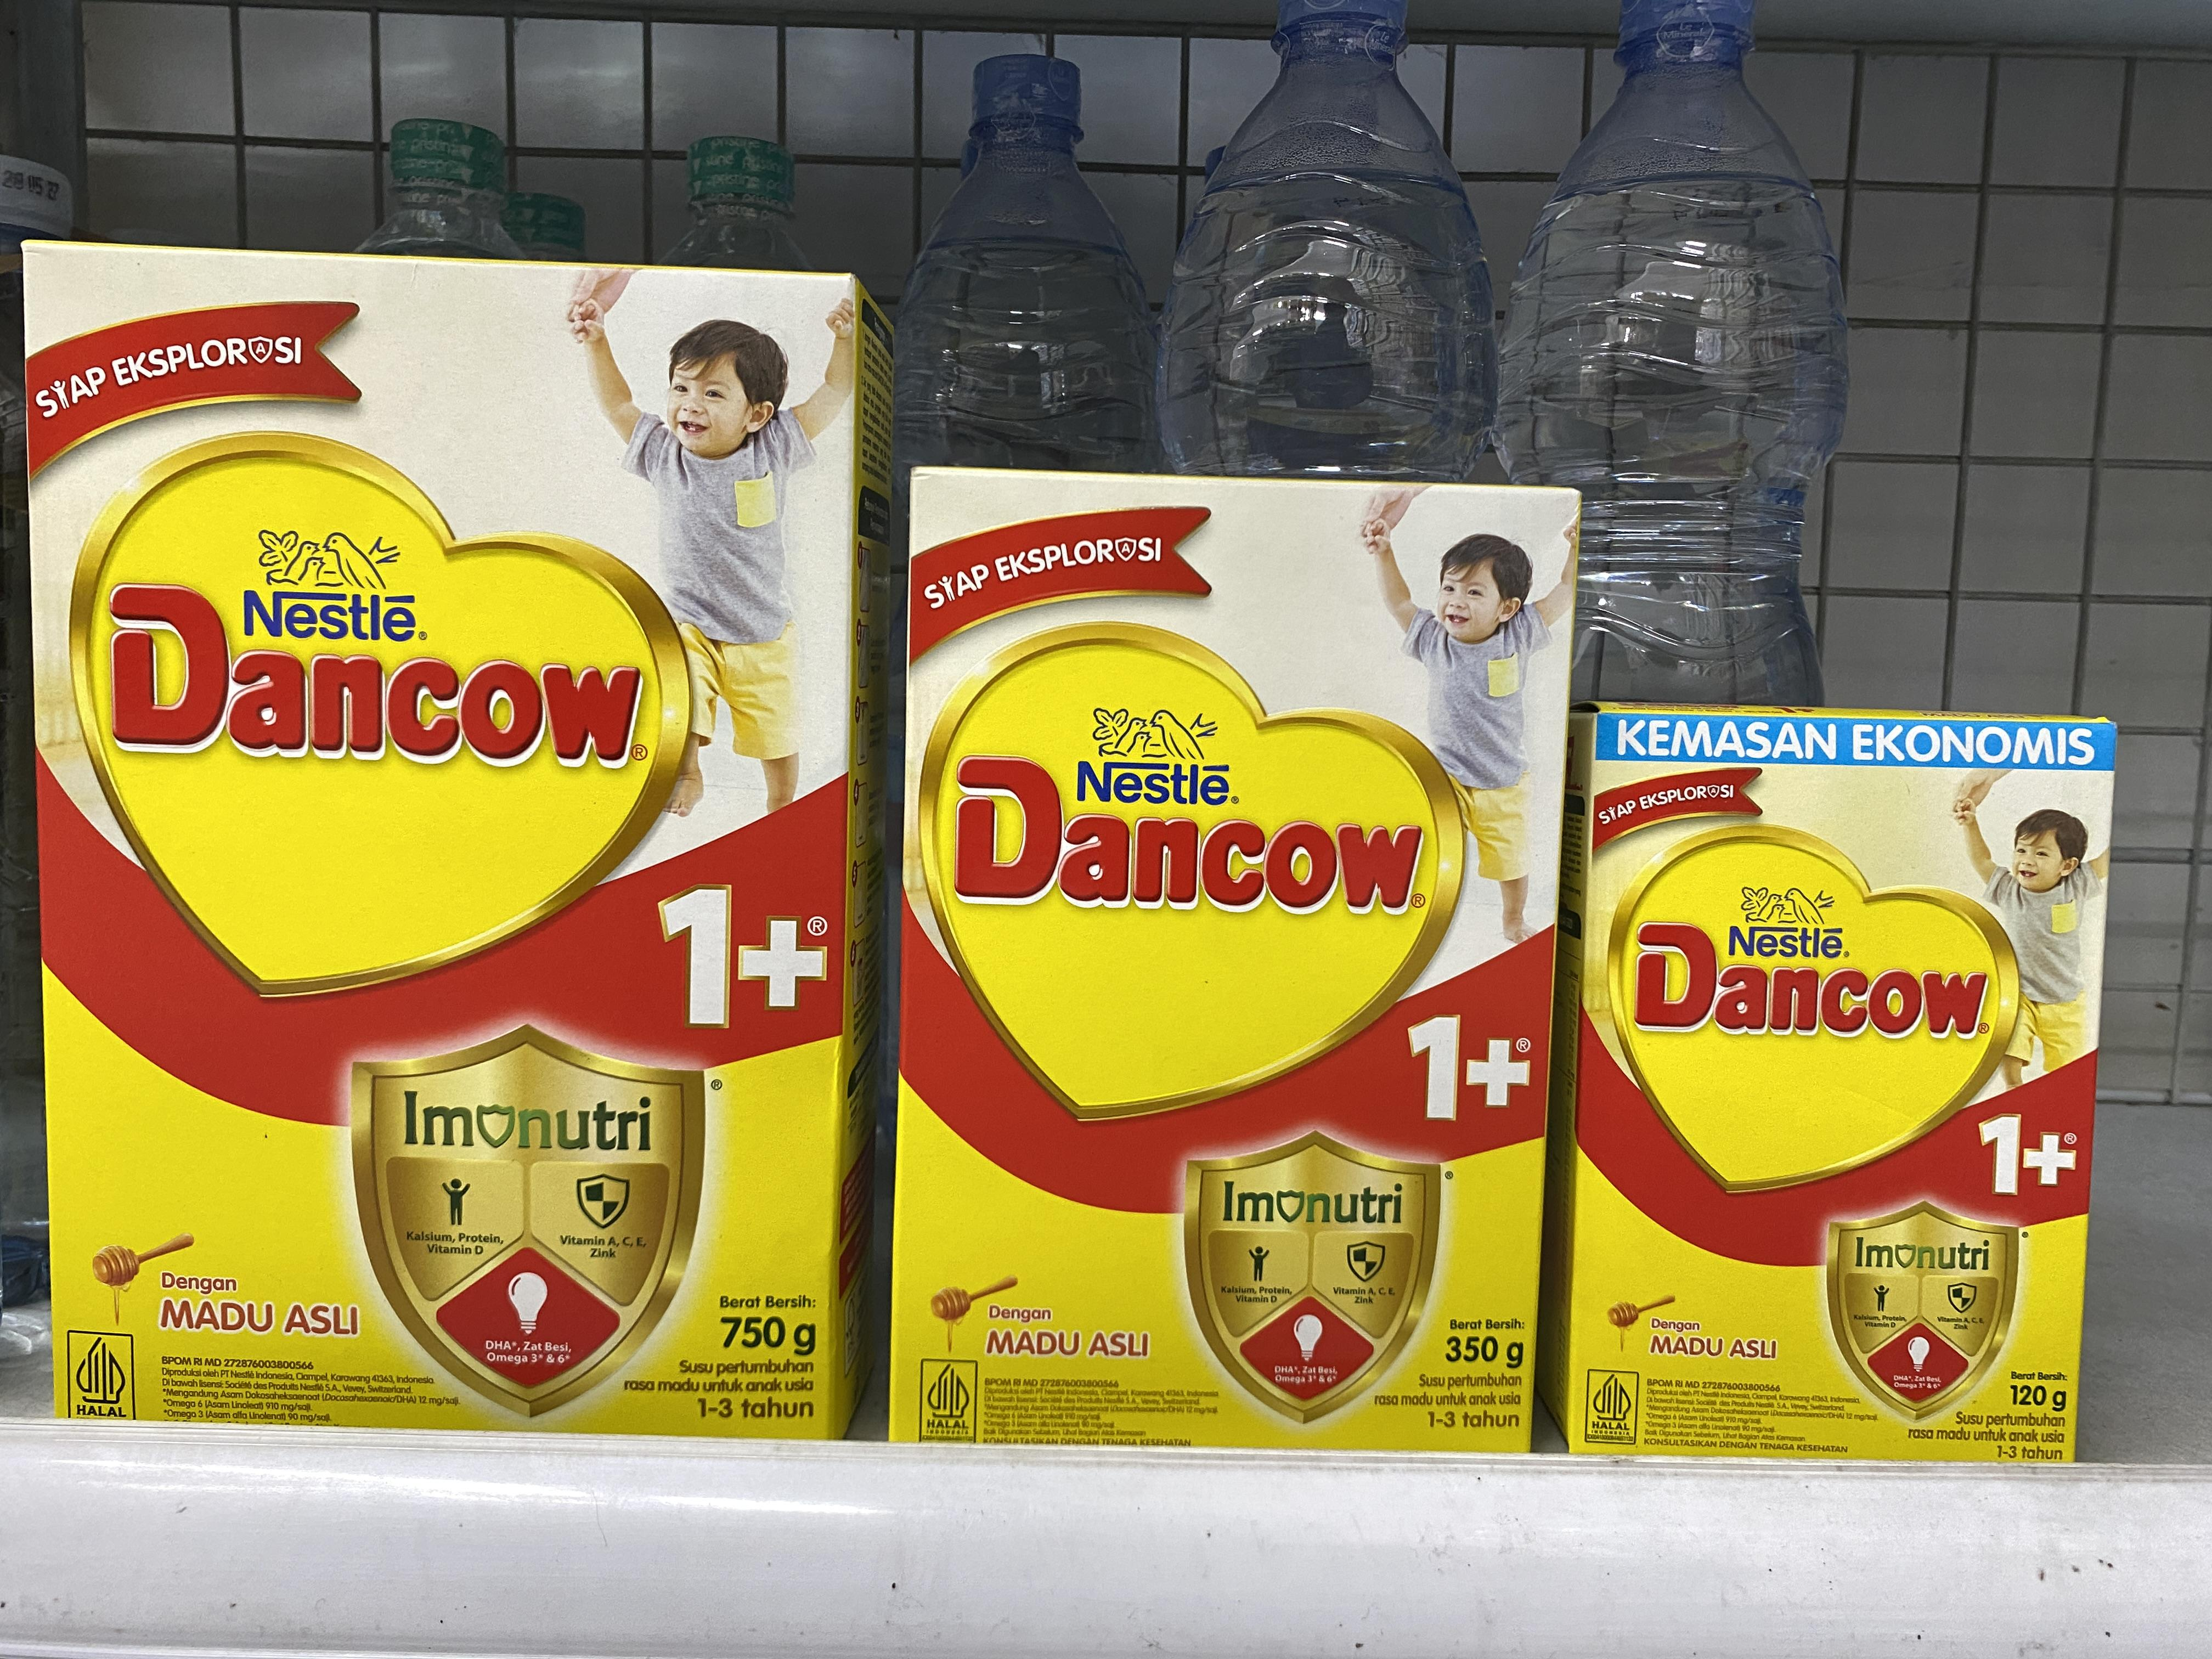DANCOW 1+ Madu Advn ExcNutr 12x800g ID_REDESIGN3: (31, 253, 866, 1434)
DANCOW 1+ Madu Advn ExcNutr 24x400g N1 ID_REDESIGN3: (902, 477, 1580, 1450)
DANCOW 1+ Madu Advn ExcNutr 40x200g ID_REDESIGN3: (1575, 763, 2111, 1469)
